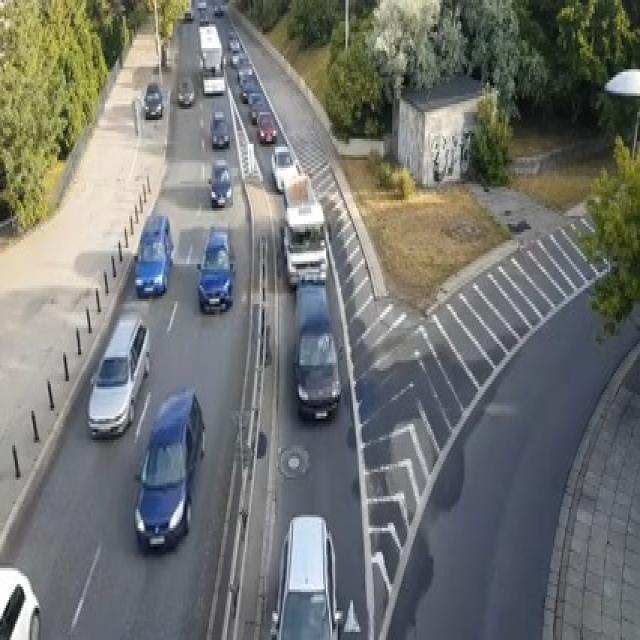car: (133, 387, 205, 552), (269, 512, 342, 637), (86, 310, 150, 438), (291, 280, 341, 421), (280, 173, 328, 288), (134, 211, 174, 296), (197, 224, 234, 312), (0, 563, 41, 637), (270, 144, 299, 192), (208, 157, 232, 205), (202, 56, 226, 93), (141, 83, 164, 117), (256, 109, 276, 144), (210, 109, 228, 147), (177, 75, 194, 106), (240, 75, 260, 101), (251, 96, 269, 123), (236, 61, 252, 83), (183, 8, 194, 19), (213, 0, 222, 13), (197, 0, 206, 11)
